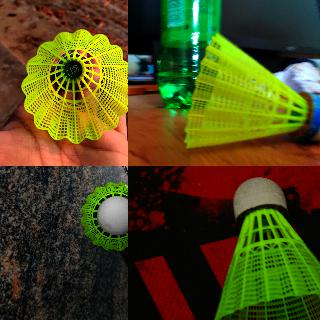shuttlecock: (183, 33, 319, 148), (212, 176, 319, 319), (21, 28, 127, 143), (80, 182, 127, 251)
